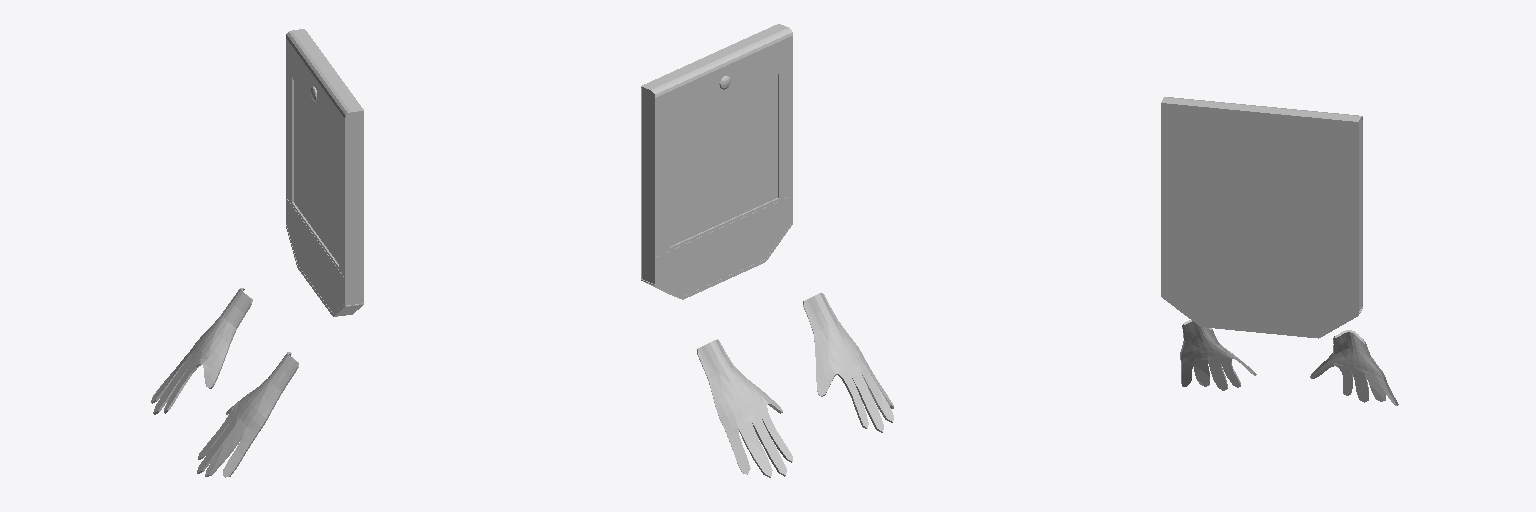
File: Meeting Avatar.obj
The picture shows the model from 3 angles: view 1: azimuth 30°, elevation 25°; view 2: azimuth 150°, elevation 25°; view 3: azimuth 270°, elevation 25°; orthographic projection.
Visible parts, largest first — view 1: Avatar.006_Cube.006; view 2: Avatar.006_Cube.006; view 3: Avatar.006_Cube.006.
Part boxes in pixels (left/top/right/bottom): Avatar.006_Cube.006: left=151, top=29, right=363, bottom=477; Avatar.006_Cube.006: left=641, top=24, right=893, bottom=477; Avatar.006_Cube.006: left=1161, top=97, right=1398, bottom=405.
Bounding box in the file's own units: 0.4012 × 0.7693 × 0.4686.